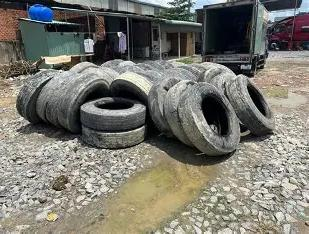ROAD_OBSTACLE: (14, 58, 276, 160), (174, 82, 241, 160), (79, 96, 149, 148), (227, 75, 276, 140)
